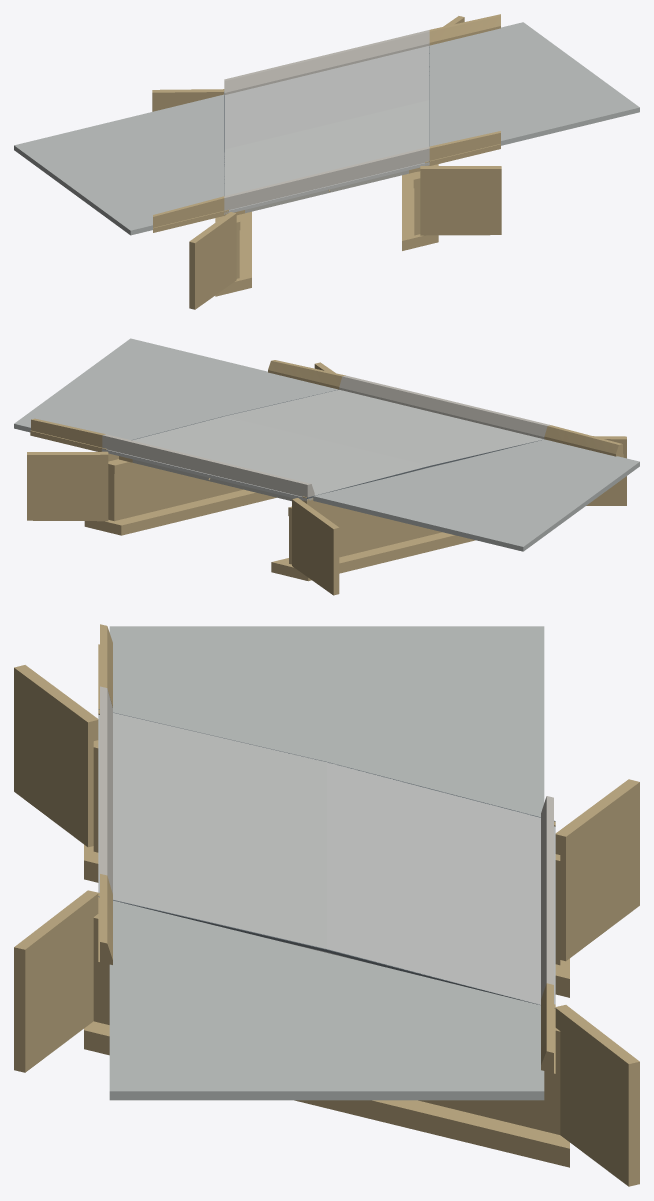
3 renders of one model, top to bottom at view 1: azimuth 30°, elevation 25°; view 2: azimuth 150°, elevation 25°; view 3: azimuth 270°, elevation 25°, orthographic. The views are drawn at different scales.
Parts seen in each view (by area): view 1: overlay, approach_-1, approach_1, wing_1_-1, wing_0_-1, retained_rail_1, retained_rail_-1, footing_2, footing_1, TFC_transition_1_1, wing_0_1, TFC_transition_-1_-1 (+3 smaller); view 2: overlay, approach_-1, approach_1, wing_1_1, stem_2, wing_0_1, retained_rail_-1, retained_rail_1, stem_1, footing_2, footing_1, TFC_transition_-1_-1 (+7 smaller); view 3: overlay, approach_1, approach_-1, wing_0_-1, wing_0_1, wing_1_-1, wing_1_1, footing_2, stem_2, retained_rail_-1, retained_rail_1, PCF_joint_1 (+5 smaller).
Part boxes in pixels (bbox=[...]): overlay: bbox=[224, 45, 429, 195]; approach_-1: bbox=[14, 94, 223, 235]; approach_1: bbox=[430, 22, 639, 146]; wing_1_-1: bbox=[420, 166, 501, 235]; wing_0_-1: bbox=[189, 212, 236, 309]; retained_rail_1: bbox=[224, 30, 429, 95]; retained_rail_-1: bbox=[224, 146, 429, 210]; footing_2: bbox=[402, 164, 438, 250]; footing_1: bbox=[215, 211, 251, 296]; TFC_transition_1_1: bbox=[429, 14, 500, 45]; wing_0_1: bbox=[152, 89, 224, 111]; TFC_transition_-1_-1: bbox=[153, 196, 224, 227]; overlay: bbox=[132, 390, 543, 495]; approach_-1: bbox=[313, 439, 639, 551]; approach_1: bbox=[14, 338, 337, 439]; wing_1_1: bbox=[27, 451, 108, 521]; stem_2: bbox=[108, 466, 242, 521]; wing_0_1: bbox=[292, 498, 339, 595]; retained_rail_-1: bbox=[339, 375, 550, 438]; retained_rail_1: bbox=[102, 434, 314, 497]; stem_1: bbox=[289, 508, 441, 564]; footing_2: bbox=[84, 489, 276, 535]; footing_1: bbox=[271, 532, 475, 581]; TFC_transition_-1_-1: bbox=[544, 425, 622, 456]; overlay: bbox=[113, 713, 540, 1004]; approach_1: bbox=[109, 900, 544, 1100]; approach_-1: bbox=[109, 626, 544, 817]; wing_0_-1: bbox=[14, 665, 98, 847]; wing_0_1: bbox=[555, 779, 639, 961]; wing_1_-1: bbox=[14, 890, 98, 1072]; wing_1_1: bbox=[555, 1005, 639, 1186]; footing_2: bbox=[84, 1021, 569, 1167]; stem_2: bbox=[93, 934, 560, 1134]; retained_rail_-1: bbox=[100, 686, 112, 893]; retained_rail_1: bbox=[541, 796, 553, 998]; PCF_joint_1: bbox=[98, 896, 555, 1008].
Size of the model in its own units: 34.08 by 5.9 by 19.47.
